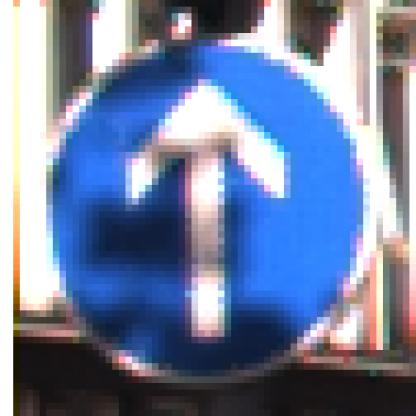AheadOnly: (41, 41, 384, 384)
